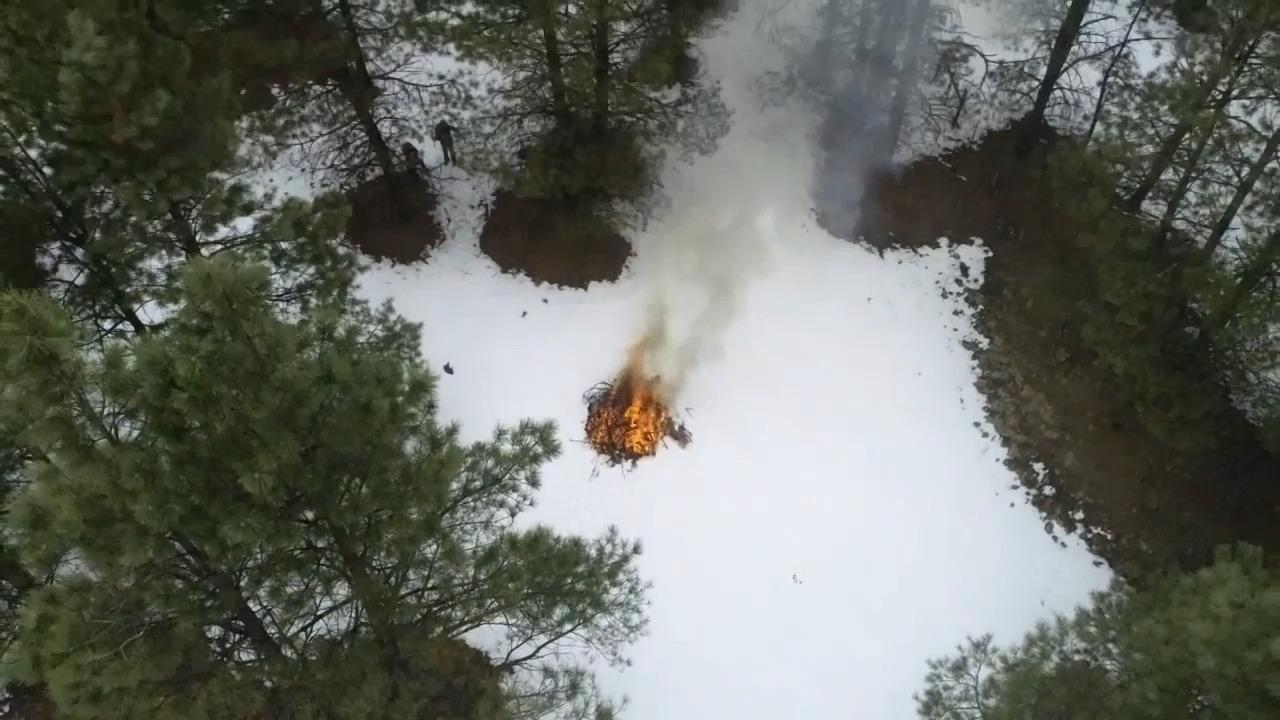fire: (575, 335, 684, 460)
